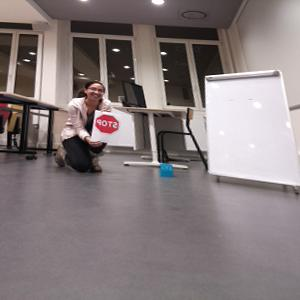stop: (95, 113, 119, 135)
